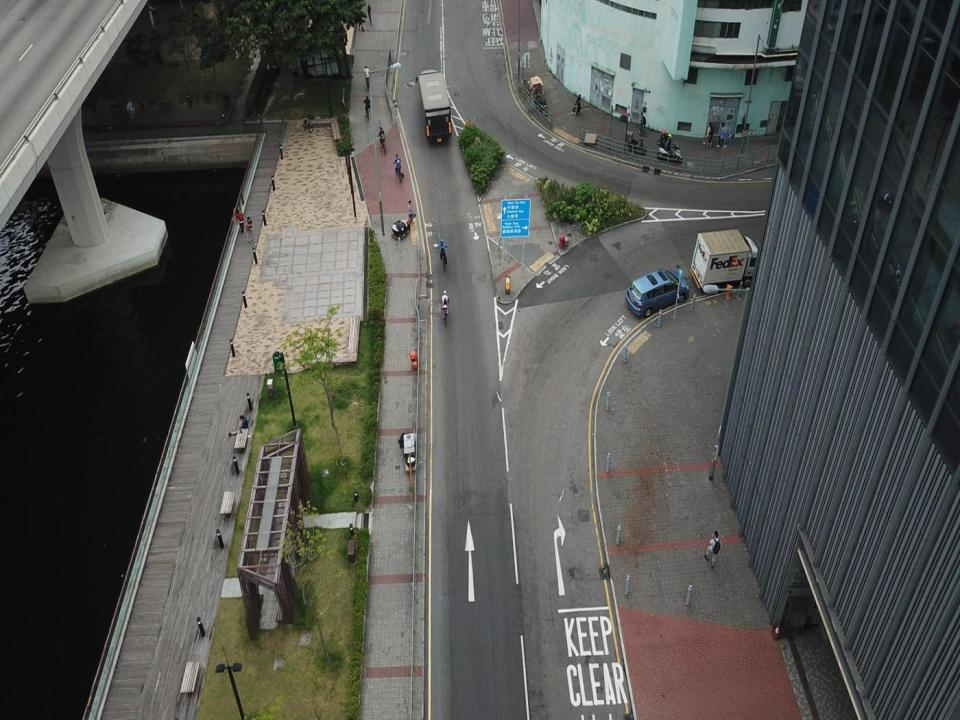car: (625, 268, 690, 317)
truck: (691, 228, 761, 288), (415, 68, 452, 146)
